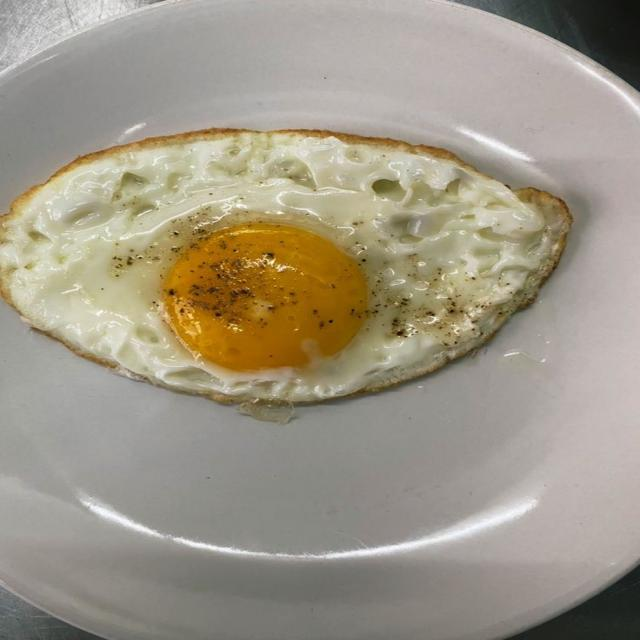fryed egg: (0, 130, 570, 401)
